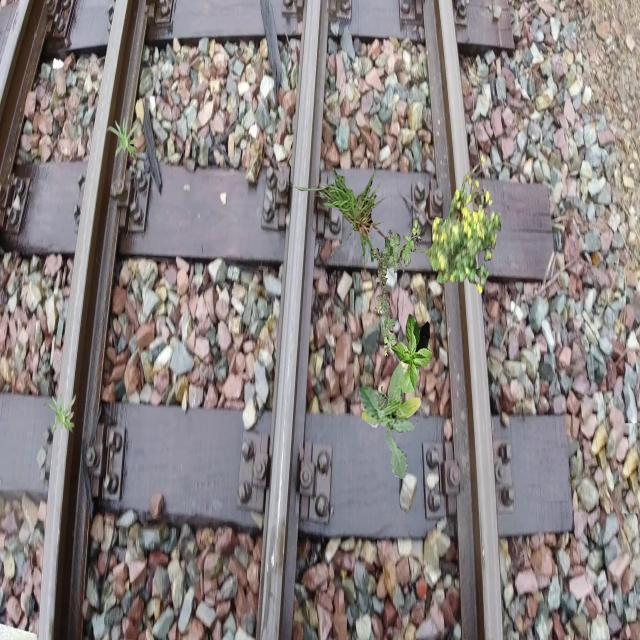Plant: (285, 164, 428, 284), (426, 155, 501, 295), (359, 356, 422, 481), (373, 220, 422, 358), (391, 314, 433, 394), (107, 113, 140, 159), (44, 389, 76, 435), (378, 387, 406, 428)
